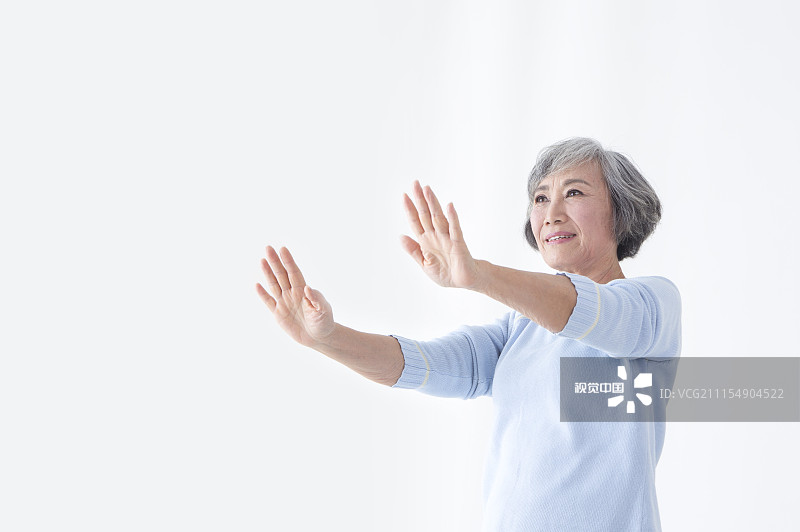no-phone: (244, 232, 348, 356), (388, 172, 490, 294)
